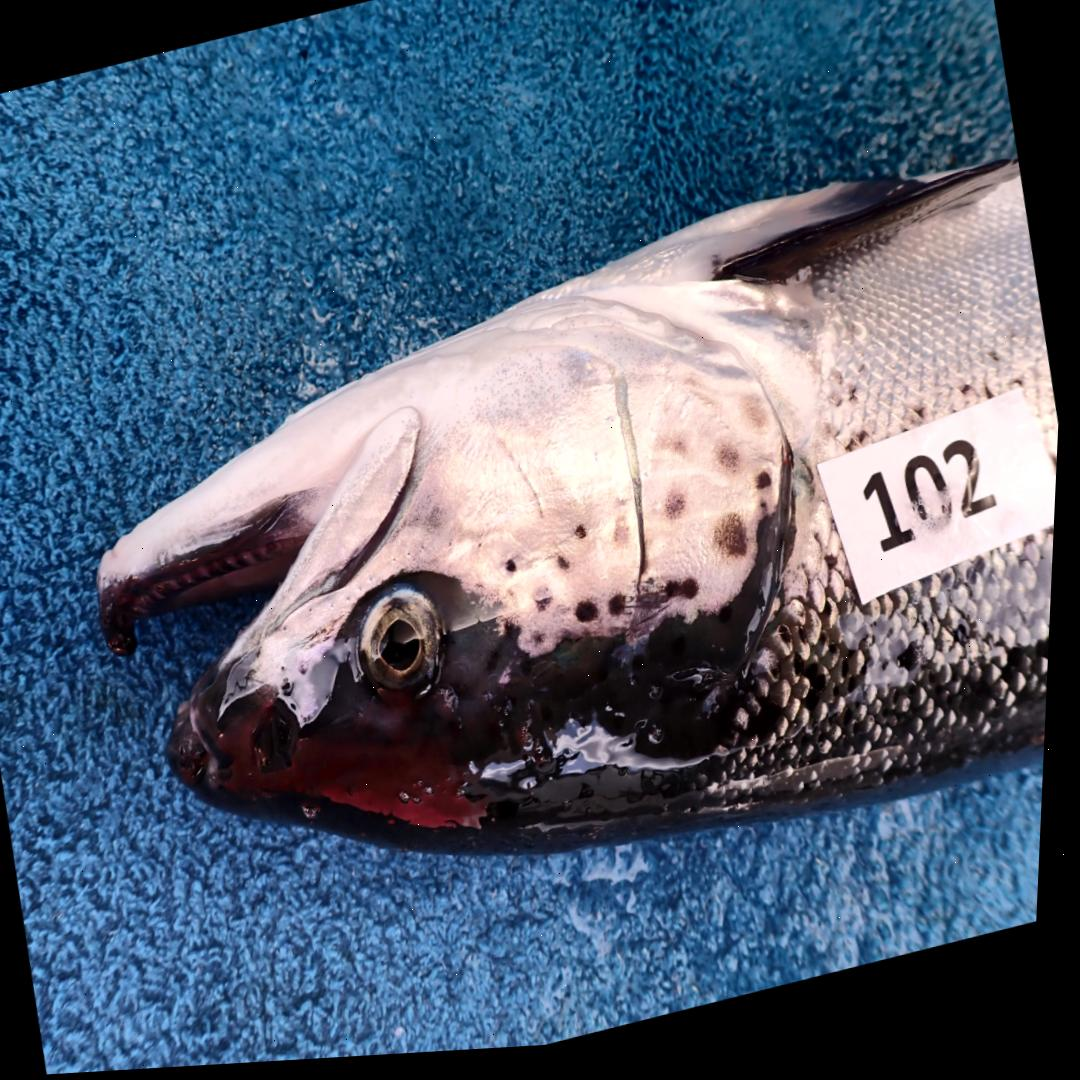spot: (719, 522, 754, 567), (743, 401, 777, 443), (717, 446, 751, 487), (657, 437, 694, 470), (671, 585, 705, 609), (669, 501, 691, 529), (618, 522, 636, 556), (539, 591, 559, 620), (581, 609, 604, 631), (614, 601, 632, 624), (761, 480, 776, 499), (562, 563, 576, 578), (764, 507, 775, 524), (580, 532, 592, 547), (511, 566, 523, 581), (539, 638, 552, 651)
